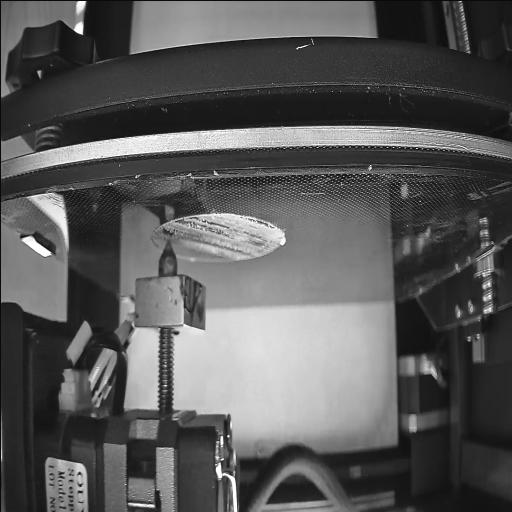under_extrusion: (158, 214, 244, 254), (246, 214, 274, 250)
